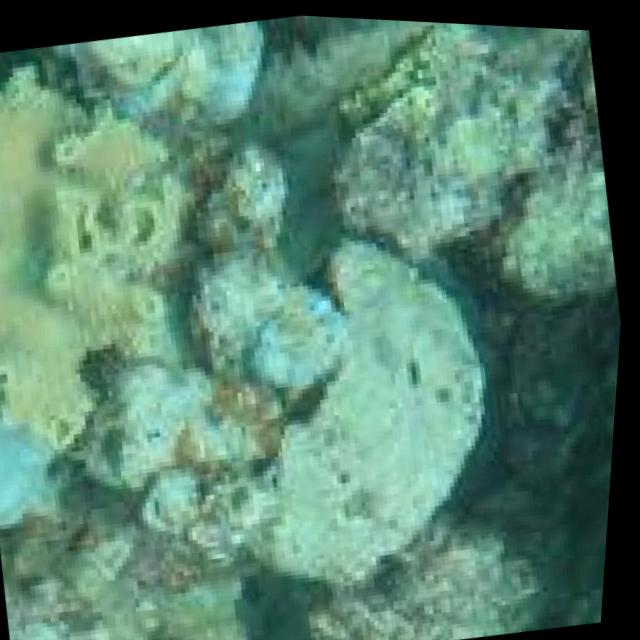Bleached Coral: (71, 123, 546, 637)
